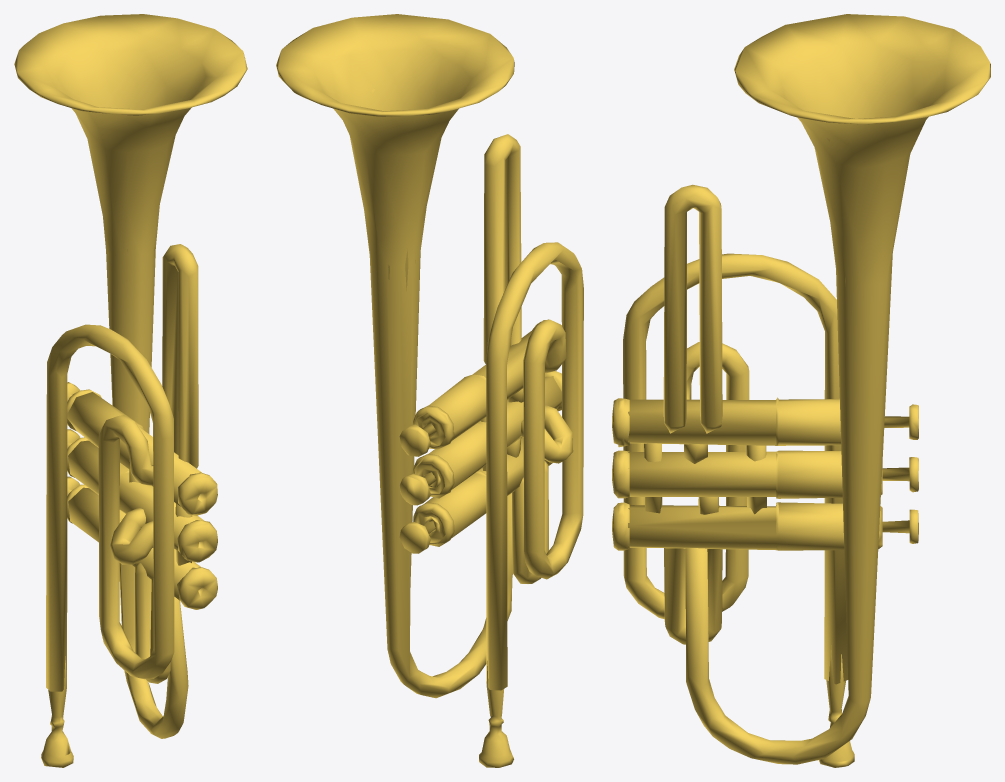
File: Trumpet.fbx
3 views of the same model, side by side, from view 1: azimuth 30°, elevation 25°; view 2: azimuth 150°, elevation 25°; view 3: azimuth 270°, elevation 25° (orthographic). The views are drawn at different scales.
Parts seen in each view (by area): view 1: Trumpet; view 2: Trumpet; view 3: Trumpet.
Part boxes in pixels (x1,y1,x2,y2): Trumpet: (14,14,247,767); Trumpet: (276,14,583,767); Trumpet: (612,14,990,767).
Bounding box in the file's own units: 0.3545 × 1.12 × 0.5203.
